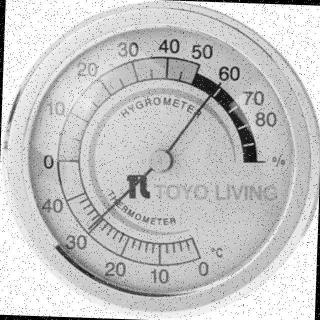gauge: (0, 0, 320, 320), (231, 139, 273, 178), (180, 231, 217, 271), (146, 149, 174, 173), (210, 78, 227, 95), (81, 220, 97, 236)
